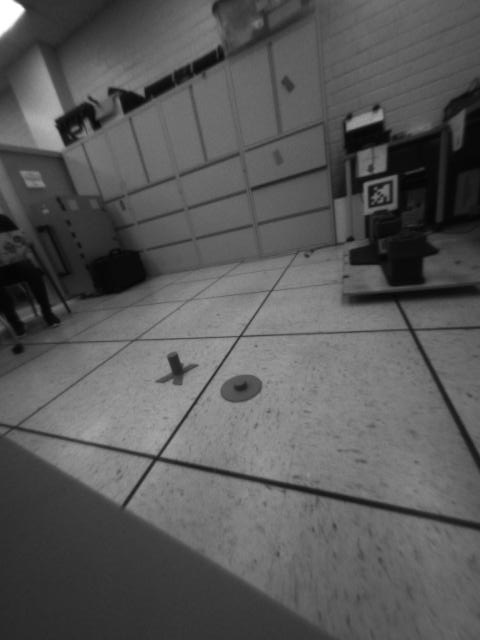X: (155, 352, 200, 386)
